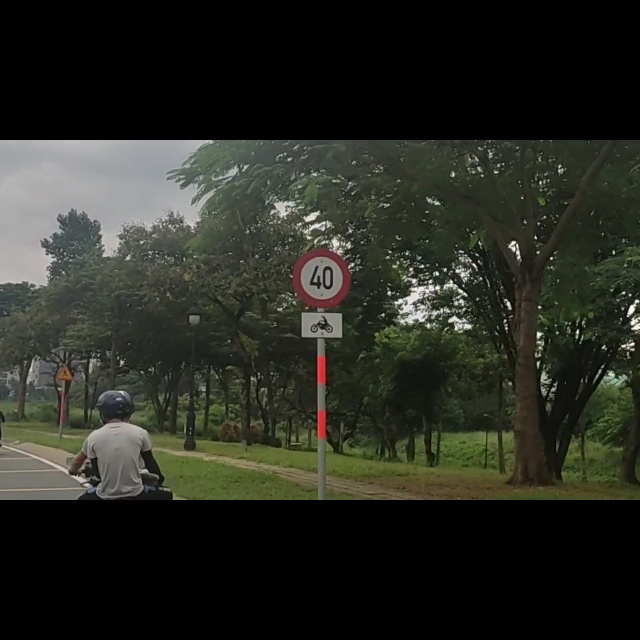bien_nguy_hiem: (293, 191, 352, 300), (57, 391, 72, 427)
